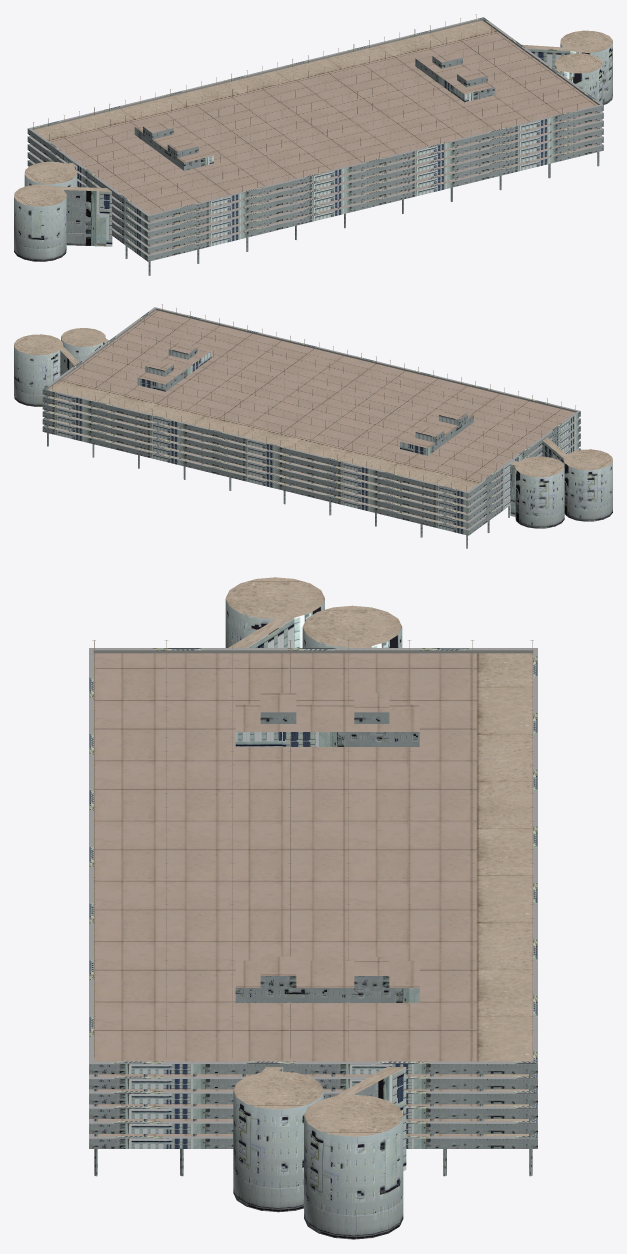
File: Garage1.exact.glb
3 views of the same model, one above another, from view 1: azimuth 30°, elevation 25°; view 2: azimuth 150°, elevation 25°; view 3: azimuth 270°, elevation 25° (orthographic). The views are drawn at different scales.
Visible parts, largest first — view 1: Garage1; view 2: Garage1; view 3: Garage1.
Boxes of the visible parts, box(x1,y1,x2,y2) form: Garage1: box(14, 14, 612, 275); Garage1: box(14, 304, 612, 548); Garage1: box(89, 577, 537, 1239).
Size of the model in its own units: 402 by 46.5 by 136.
Materials: 1 (1 with a texture image).
